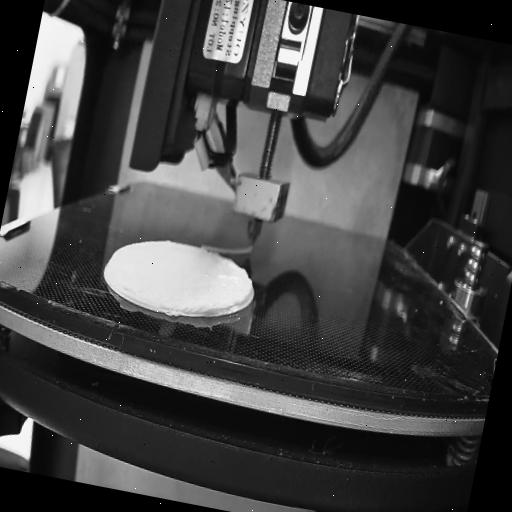over_extrusion: (232, 264, 256, 314)
